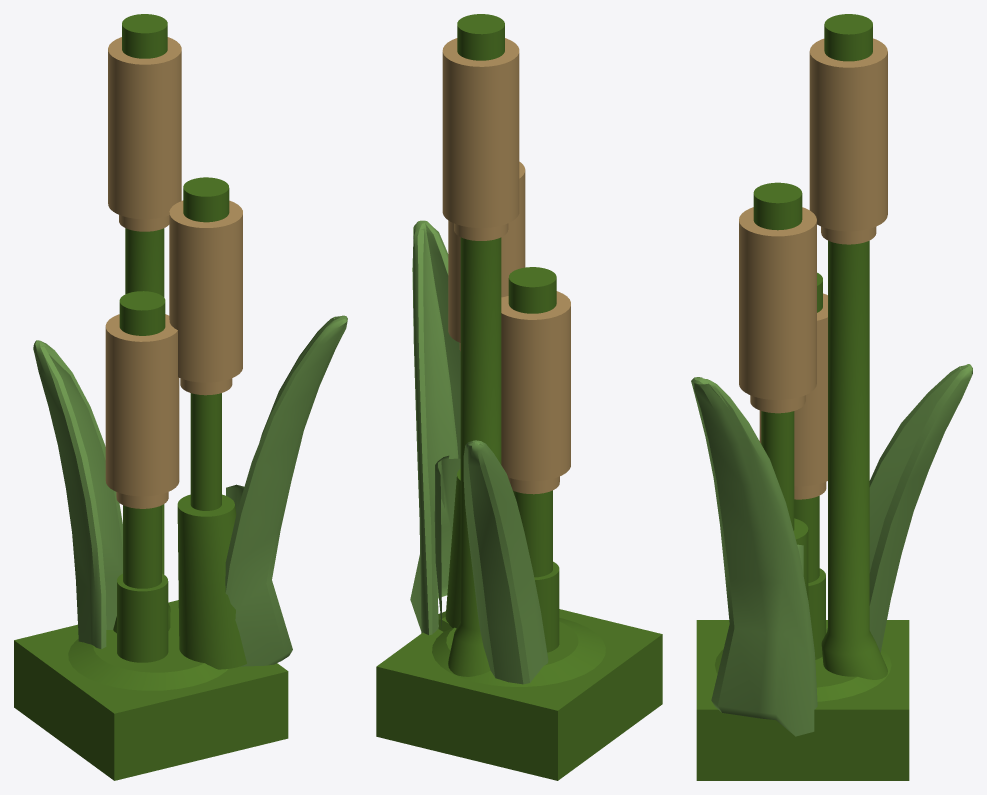
File: phragmites.glb
3 renders of one model, left to right at view 1: azimuth 30°, elevation 25°; view 2: azimuth 150°, elevation 25°; view 3: azimuth 270°, elevation 25°, orthographic. The views are drawn at different scales.
Parts seen in each view (by area): view 1: phragmites; view 2: phragmites; view 3: phragmites.
Part boxes in pixels (x1,y1,x2,y2): phragmites: (14,14,347,780); phragmites: (376,14,662,780); phragmites: (691,14,972,780).
Bounding box in the file's own units: 0.1066 × 0.2953 × 0.1048.
